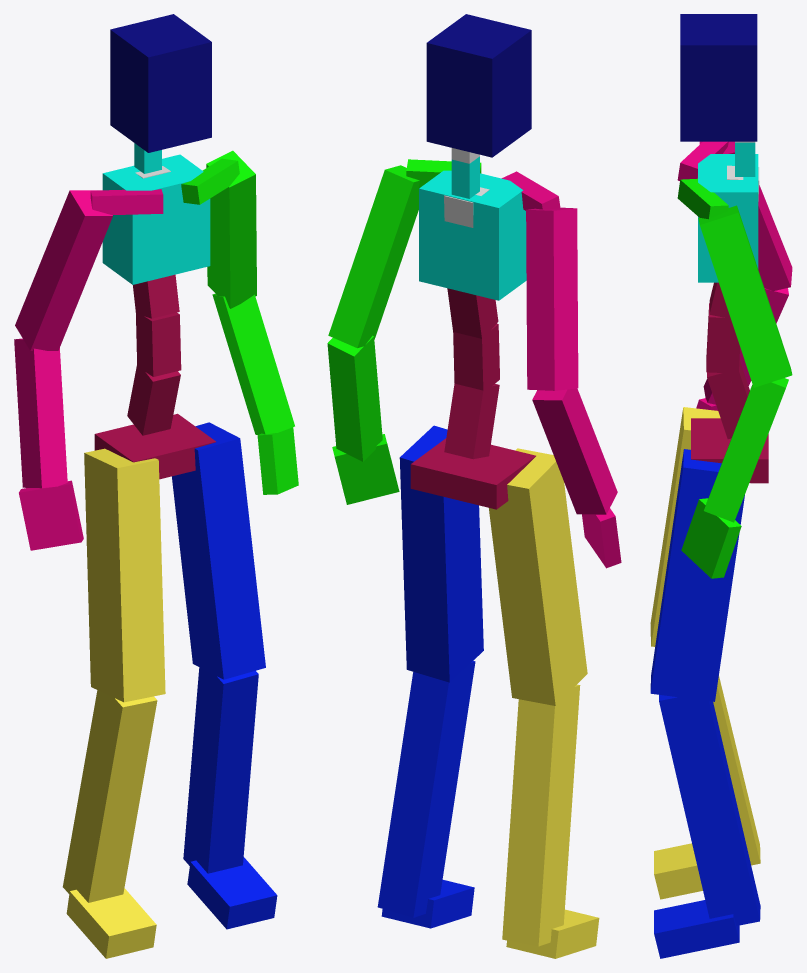
File: BaseHuman_B.FBX
The picture shows the model from 3 angles, left to right: view 1: azimuth 30°, elevation 25°; view 2: azimuth 150°, elevation 25°; view 3: azimuth 270°, elevation 25°; orthographic projection. The views are drawn at different scales.
Visible parts, largest first — view 1: Base HumanRThigh_B, Base HumanLThigh_B, Base HumanRCalf_B, Base HumanHead_B, Base HumanLCalf_B, Base HumanRibcage_B, Base HumanRUpperarm_B, Base HumanRForearm_B, Base HumanLUpperarm_B, Base HumanLForearm_B, Base HumanRFoot_B, Base HumanLFoot_B (+9 smaller); view 2: Base HumanRThigh_B, Base HumanLThigh_B, Base HumanRCalf_B, Base HumanLCalf_B, Base HumanHead_B, Base HumanRibcage_B, Base HumanRUpperarm_B, Base HumanLUpperarm_B, Base HumanRForearm_B, Base HumanLForearm_B, Base HumanPelvis_B, Base HumanSpine1_B (+10 smaller); view 3: Base HumanLCalf_B, Base HumanLThigh_B, Base HumanHead_B, Base HumanLUpperarm_B, Base HumanLForearm_B, Base HumanRibcage_B, Base HumanLFoot_B, Base HumanLPalm_B, Base HumanRCalf_B, Base HumanRThigh_B, Base HumanRUpperarm_B, Base HumanRFoot_B (+8 smaller).
Part boxes in pixels (<box>): Base HumanRThigh_B: <box>84,448,165,702</box>; Base HumanLThigh_B: <box>172,422,265,679</box>; Base HumanRCalf_B: <box>62,690,157,902</box>; Base HumanHead_B: <box>110,14,211,152</box>; Base HumanLCalf_B: <box>183,667,258,873</box>; Base HumanRibcage_B: <box>102,154,210,284</box>; Base HumanRUpperarm_B: <box>15,190,112,350</box>; Base HumanRForearm_B: <box>14,338,67,488</box>; Base HumanLUpperarm_B: <box>206,150,256,308</box>; Base HumanLForearm_B: <box>212,293,294,434</box>; Base HumanRFoot_B: <box>66,888,156,958</box>; Base HumanLFoot_B: <box>187,857,277,929</box>; Base HumanRThigh_B: <box>489,448,587,705</box>; Base HumanLThigh_B: <box>399,425,483,682</box>; Base HumanRCalf_B: <box>502,684,580,946</box>; Base HumanLCalf_B: <box>377,661,475,917</box>; Base HumanHead_B: <box>426,14,531,157</box>; Base HumanRibcage_B: <box>419,170,526,300</box>; Base HumanRUpperarm_B: <box>526,207,578,390</box>; Base HumanLUpperarm_B: <box>328,165,419,348</box>; Base HumanRForearm_B: <box>532,388,617,514</box>; Base HumanLForearm_B: <box>327,335,382,461</box>; Base HumanPelvis_B: <box>410,438,535,509</box>; Base HumanSpine1_B: <box>444,383,499,459</box>; Base HumanLCalf_B: <box>659,695,760,925</box>; Base HumanLThigh_B: <box>650,449,744,701</box>; Base HumanHead_B: <box>680,14,757,141</box>; Base HumanLUpperarm_B: <box>698,205,792,387</box>; Base HumanLForearm_B: <box>704,378,788,522</box>; Base HumanRibcage_B: <box>698,154,758,282</box>; Base HumanLFoot_B: <box>654,900,739,958</box>; Base HumanLPalm_B: <box>681,498,741,578</box>; Base HumanRCalf_B: <box>713,676,760,865</box>; Base HumanRThigh_B: <box>650,407,720,646</box>; Base HumanRUpperarm_B: <box>699,141,792,291</box>; Base HumanRFoot_B: <box>654,843,702,899</box>.
Bounding box in the file's own units: 32.99 × 101 × 14.68.
